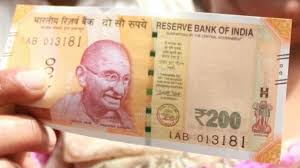twoHundred: (31, 25, 253, 134)
